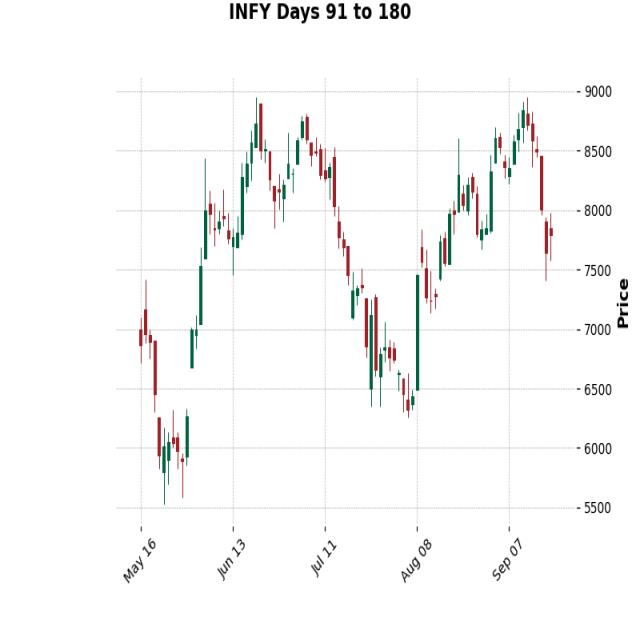Ascending Triangle: (194, 92, 315, 345)
